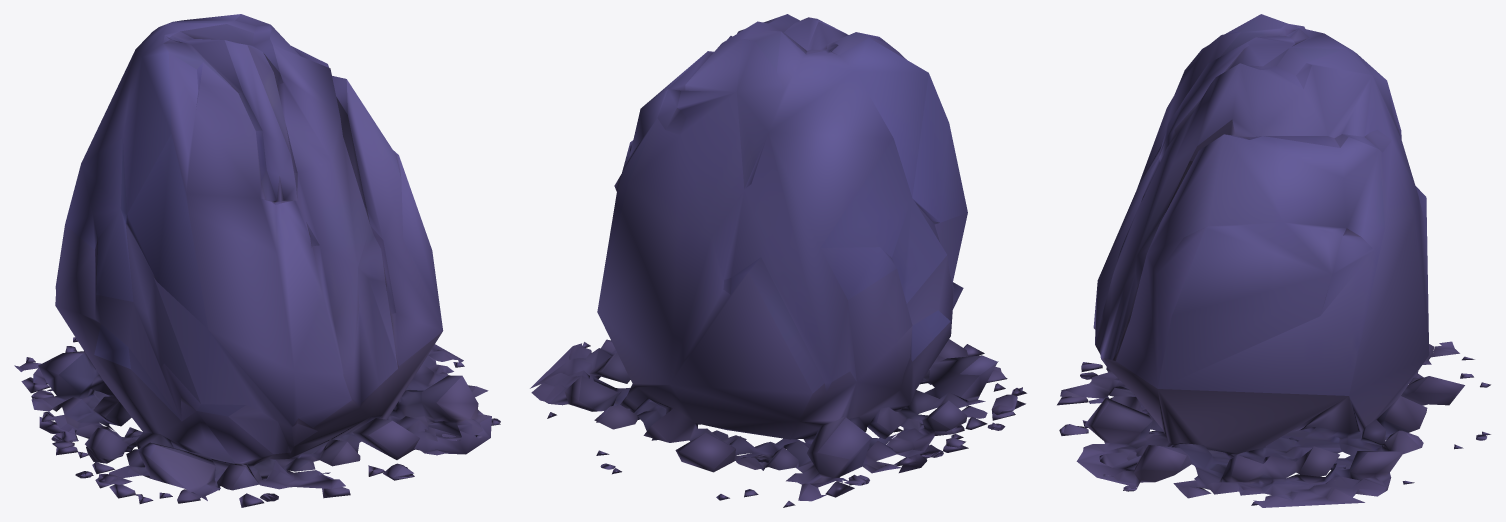
The model's file is model.progressive.glb.
3 views of the same model, side by side, from view 1: azimuth 30°, elevation 25°; view 2: azimuth 150°, elevation 25°; view 3: azimuth 270°, elevation 25° (orthographic). The views are drawn at different scales.
Visible parts, largest first — view 1: Rock4; view 2: Rock4; view 3: Rock4.
Boxes of the visible parts, x1,y1,x2,y2 form: Rock4: (14, 14, 500, 507); Rock4: (530, 14, 1026, 507); Rock4: (1057, 14, 1490, 507).
Bounding box in the file's own units: 1.9 × 1.69 × 1.86.
Materials: 1 (1 with a texture image).
